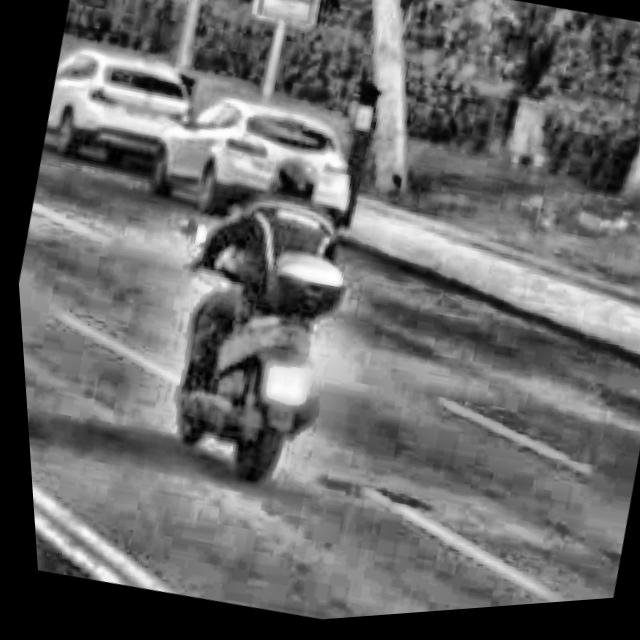motorcycle: (110, 203, 378, 511)
